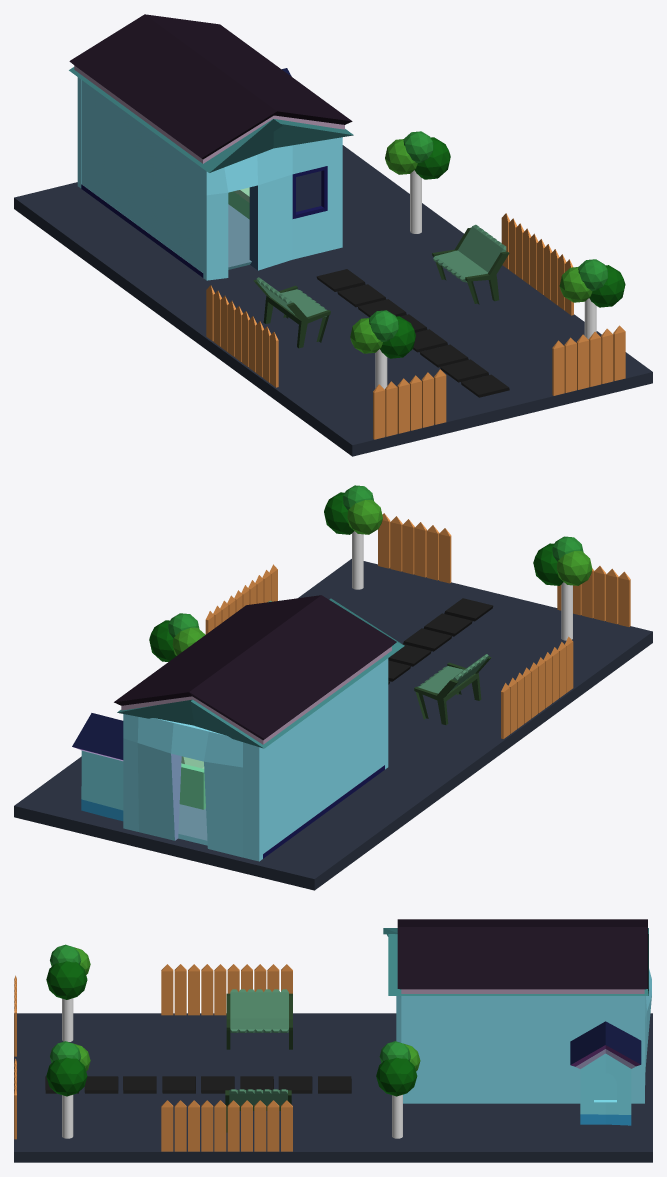
The model's file is home.glb.
3 views of the same model, one above another, from view 1: azimuth 30°, elevation 25°; view 2: azimuth 150°, elevation 25°; view 3: azimuth 270°, elevation 25° (orthographic). The views are drawn at different scales.
Visible parts, largest first — view 1: Plane.007, Plane, Plane.005, Plane.006, Plane.010, Plane.018, Icosphere.001, Icosphere.007, Icosphere.004, Icosphere.008, Icosphere.005, Icosphere.002 (+19 smaller); view 2: Plane.007, Plane, Plane.005, Cube.001, Plane.006, Plane.010, Plane.002, Icosphere.005, Icosphere.008, Icosphere.007, Icosphere.004, Icosphere.001 (+15 smaller); view 3: Plane.007, Plane, Plane.005, Cube.001, Plane.006, Icosphere.004, Icosphere.001, Icosphere.007, Plane.057, Plane.061, Plane.070, Plane.072 (+25 smaller).
Boxes of the visible parts, box(x1,y1,x2,y2) form: Plane.007: box(14, 145, 652, 456); Plane: box(77, 77, 342, 280); Plane.005: box(69, 14, 352, 163); Plane.006: box(69, 67, 353, 172); Plane.010: box(253, 279, 330, 348); Plane.018: box(432, 227, 509, 304); Icosphere.001: box(414, 137, 450, 179); Icosphere.007: box(380, 316, 415, 358); Icosphere.004: box(589, 265, 625, 307); Icosphere.008: box(350, 318, 382, 353); Icosphere.005: box(559, 267, 592, 302); Icosphere.002: box(385, 139, 417, 174); Plane.007: box(14, 559, 652, 890); Plane: box(123, 658, 388, 861); Plane.005: box(114, 595, 396, 744); Cube.001: box(72, 713, 123, 821); Plane.006: box(117, 598, 404, 748); Plane.010: box(414, 656, 491, 724); Plane.002: box(179, 763, 205, 809); Icosphere.005: box(347, 499, 382, 534); Icosphere.008: box(557, 551, 592, 585); Icosphere.007: box(533, 543, 563, 585); Icosphere.004: box(324, 492, 353, 534); Icosphere.001: box(149, 620, 176, 661); Plane.007: box(14, 1013, 652, 1162); Plane: box(396, 969, 651, 1103); Plane.005: box(397, 919, 647, 993); Cube.001: box(570, 1021, 641, 1125); Plane.006: box(383, 928, 648, 995); Icosphere.004: box(46, 1057, 87, 1096); Icosphere.001: box(376, 1057, 417, 1096); Icosphere.007: box(46, 961, 87, 999); Plane.057: box(254, 1100, 266, 1151); Plane.061: box(201, 1100, 213, 1151); Plane.070: box(201, 964, 213, 1015); Plane.072: box(174, 964, 186, 1015).
Bounding box in the file's own units: 13.26 × 6.97 × 25.86.
